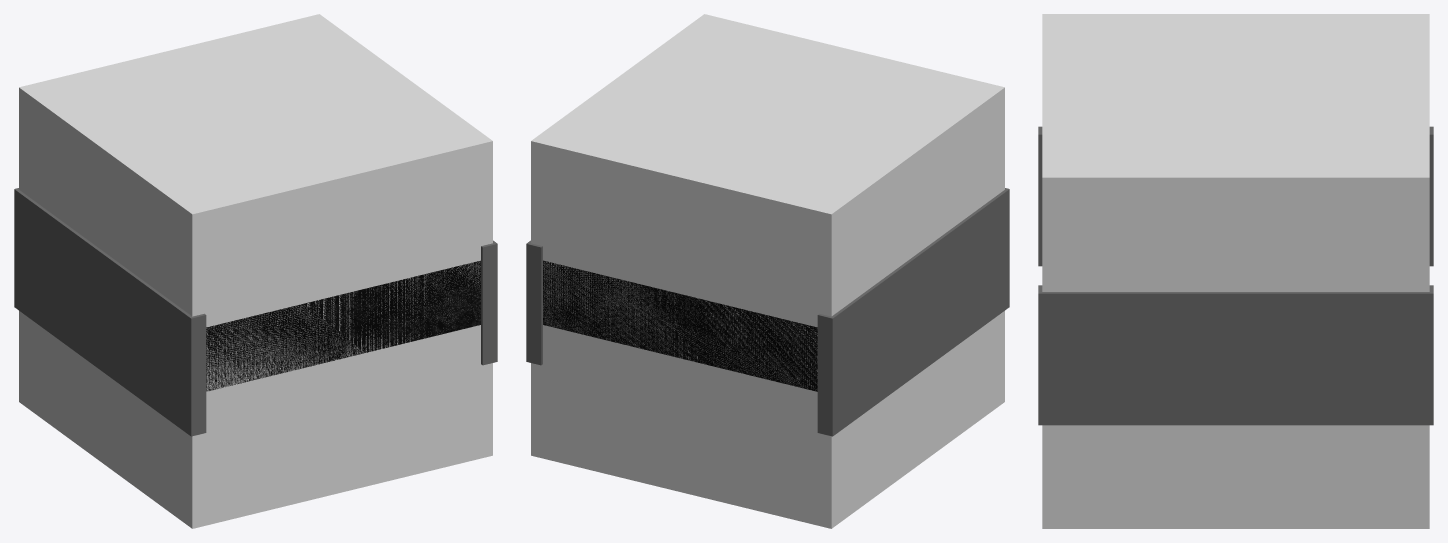
Rendered from ConveyorMesh.glb.
3 renders of one model, left to right at view 1: azimuth 30°, elevation 25°; view 2: azimuth 150°, elevation 25°; view 3: azimuth 270°, elevation 25°, orthographic. The views are drawn at different scales.
Visible parts, largest first — view 1: Cube-noimp, ConveyorLeftSide, ConveyorBelt, ConveyorRightSide; view 2: Cube-noimp, ConveyorLeftSide, ConveyorBelt, ConveyorRightSide; view 3: Cube-noimp, ConveyorRightSide, ConveyorLeftSide.
Boxes of the visible parts, bbox=[...] form: Cube-noimp: bbox=[19, 14, 492, 528]; ConveyorLeftSide: bbox=[14, 188, 206, 436]; ConveyorBelt: bbox=[206, 260, 480, 391]; ConveyorRightSide: bbox=[481, 240, 497, 365]; Cube-noimp: bbox=[531, 14, 1004, 528]; ConveyorLeftSide: bbox=[817, 188, 1009, 436]; ConveyorBelt: bbox=[543, 260, 817, 391]; ConveyorRightSide: bbox=[526, 240, 542, 365]; Cube-noimp: bbox=[1042, 14, 1429, 528]; ConveyorRightSide: bbox=[1038, 285, 1433, 425]; ConveyorLeftSide: bbox=[1038, 126, 1433, 266].
Size of the model in its own units: 1.02 by 1 by 1.02.
Materials: 4 (1 with a texture image).
